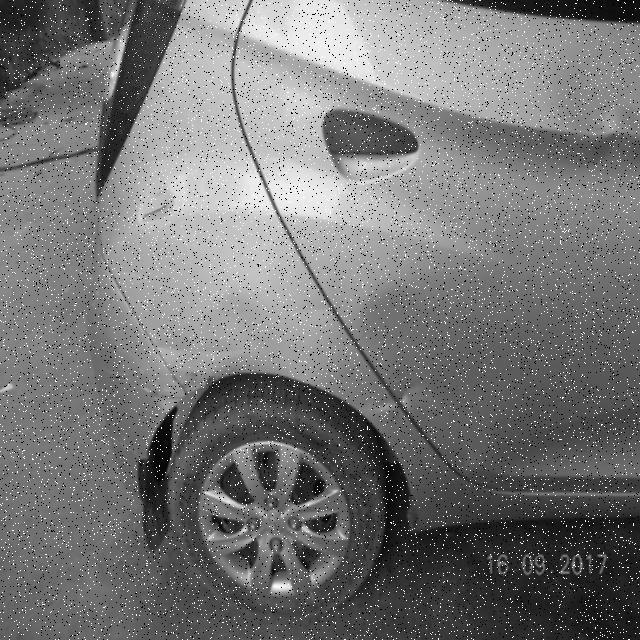doorouter-dent: (301, 6, 640, 472)
quaterpanel-dent: (137, 33, 300, 481)
rear-bumper-dent: (68, 220, 189, 573)
